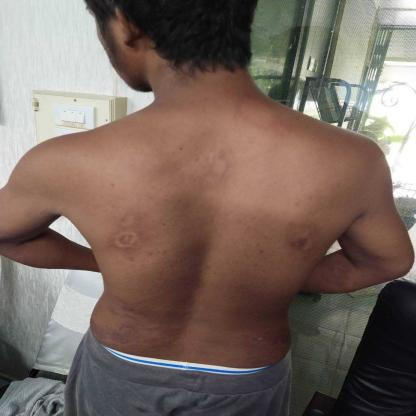Leprosy: (99, 298, 196, 351), (102, 211, 151, 261), (226, 96, 284, 133), (280, 218, 322, 257), (195, 156, 235, 192), (244, 326, 280, 350)
